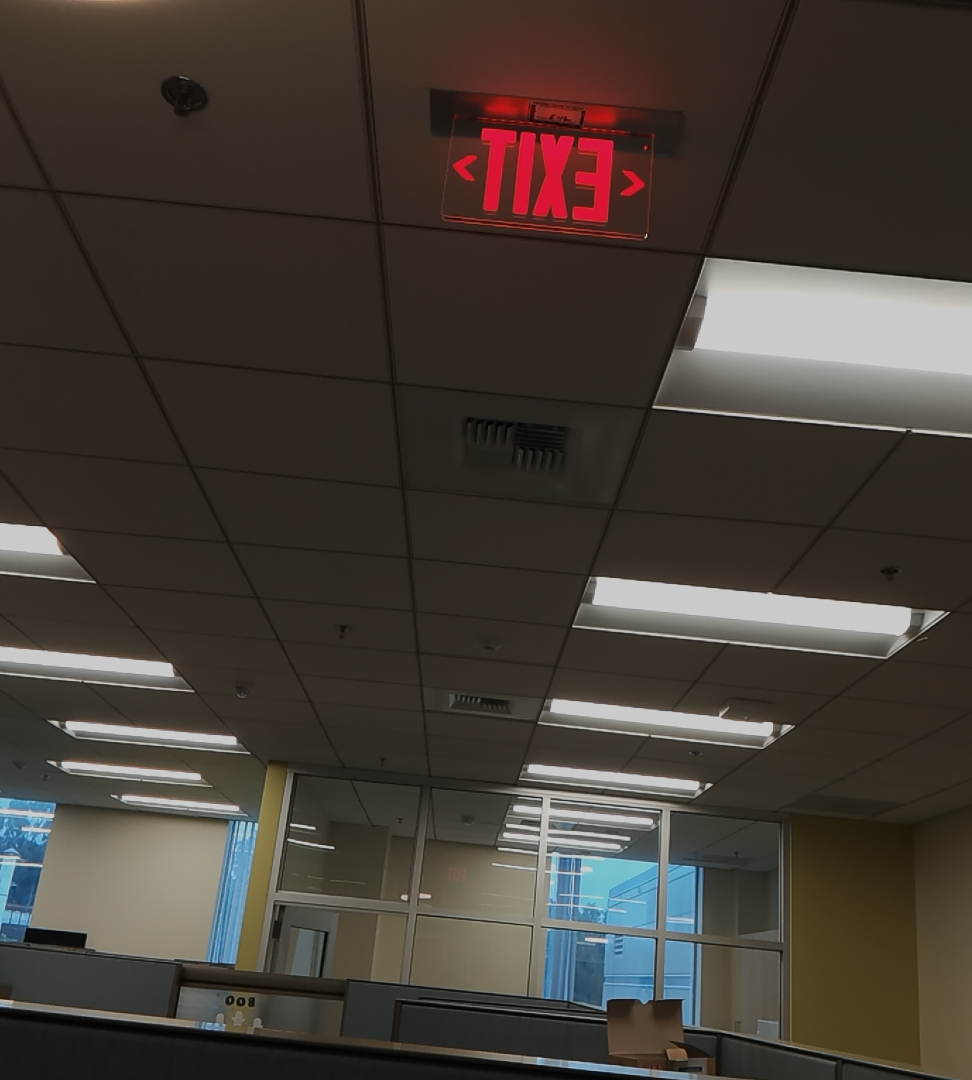emergency_exit: (437, 104, 660, 244)
